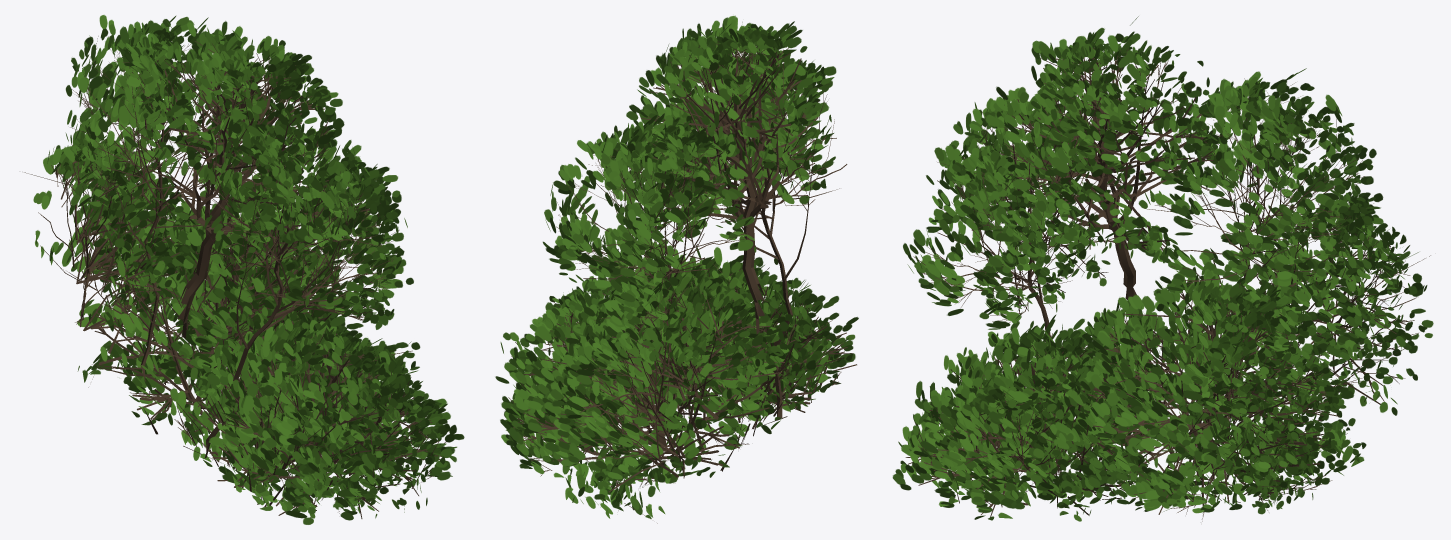
The picture shows the model from 3 angles, left to right: view 1: azimuth 30°, elevation 25°; view 2: azimuth 150°, elevation 25°; view 3: azimuth 270°, elevation 25°; orthographic projection. The views are drawn at different scales.
Parts seen in each view (by area): view 1: oak 01.001_trunk_Mat.001_0.472; view 2: oak 01.001_trunk_Mat.001_0.472; view 3: oak 01.001_trunk_Mat.001_0.472.
Part boxes in pixels (box(x1,y1,x2,y2)): oak 01.001_trunk_Mat.001_0.472: box(24, 15, 464, 524); oak 01.001_trunk_Mat.001_0.472: box(495, 15, 858, 523); oak 01.001_trunk_Mat.001_0.472: box(892, 16, 1433, 521).
Size of the model in its own units: 1.73 by 3.13 by 3.5.
Materials: 2 (1 with a texture image).
